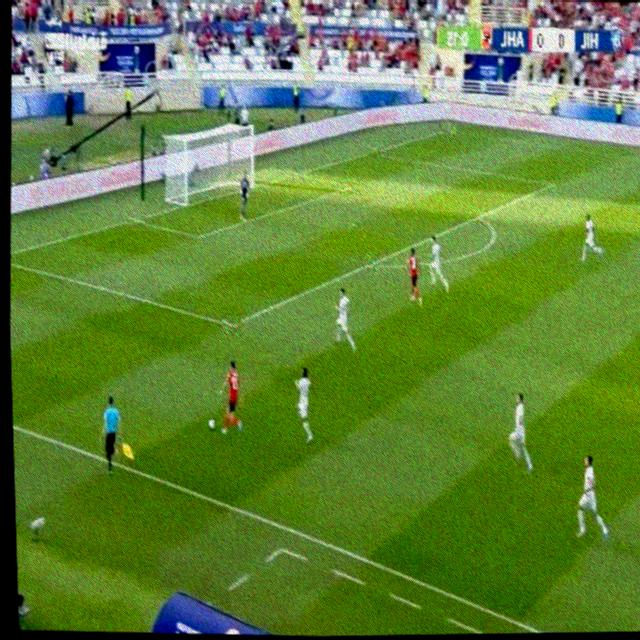bigarea_bottom_inner: (220, 311, 241, 336)
bigarea_top_inner: (544, 174, 560, 192)
bigarea_top_outter: (364, 143, 381, 158)
bottom_arc_area_intersection: (360, 253, 378, 272)
corner: (438, 121, 455, 136)
smallarea_bottom_inner: (190, 226, 207, 245)
smallarea_bottom_outter: (125, 209, 145, 228)
smallarea_top_inner: (338, 176, 361, 195)
smallarea_top_outter: (290, 166, 306, 182)
top_arc_area_intersection: (471, 207, 489, 225)
